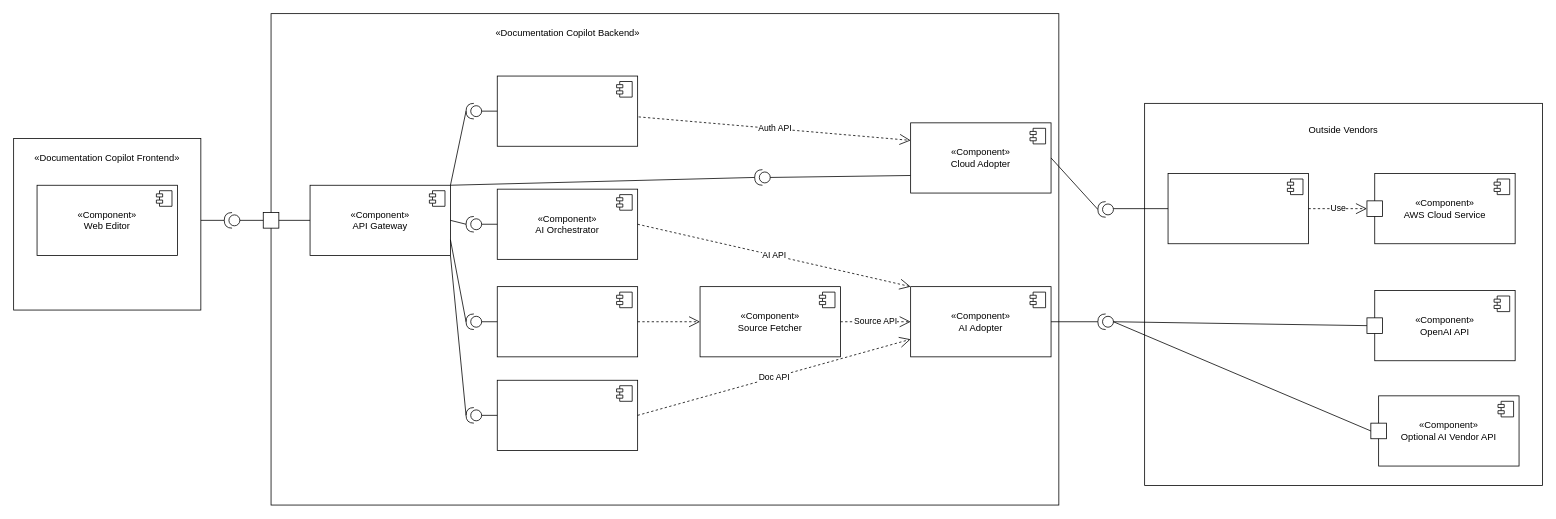
The diagram is 1556 pixels wide and 519 high, and some of its shapes have lost their labels. Here are the shapes that lost their labels. From the top down, the centre of each, then its label:
(567,110): «Component» Authentication Service
(1237,208): «Component» IObjectStoreClient
(567,321): «Component» Citation Binder
(567,414): «Component» Document Service
